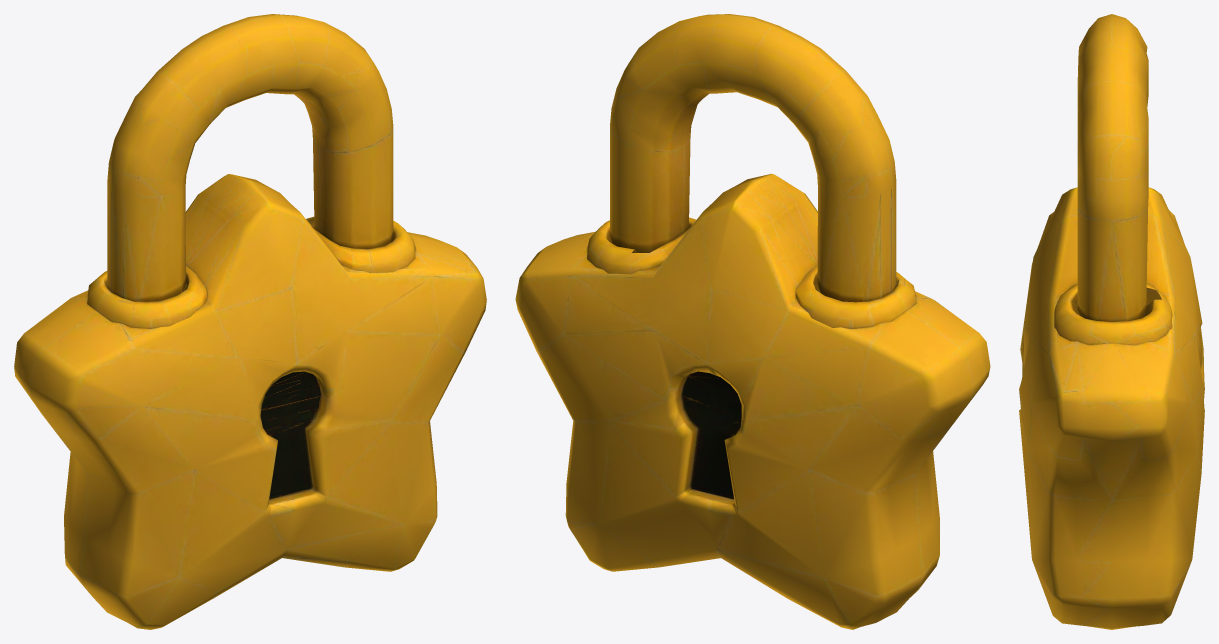
Rendered from lock_04.glb.
The picture shows the model from 3 angles, left to right: view 1: azimuth 30°, elevation 25°; view 2: azimuth 150°, elevation 25°; view 3: azimuth 270°, elevation 25°; orthographic projection. The views are drawn at different scales.
Visible parts, largest first — view 1: geometry_0; view 2: geometry_0; view 3: geometry_0.
Boxes of the visible parts, x1,y1,x2,y2 form: geometry_0: [14, 14, 486, 629]; geometry_0: [515, 14, 990, 629]; geometry_0: [1019, 14, 1204, 629].
Size of the model in its own units: 0.7759 by 0.9517 by 0.2955.
Materials: 1 (1 with a texture image).
